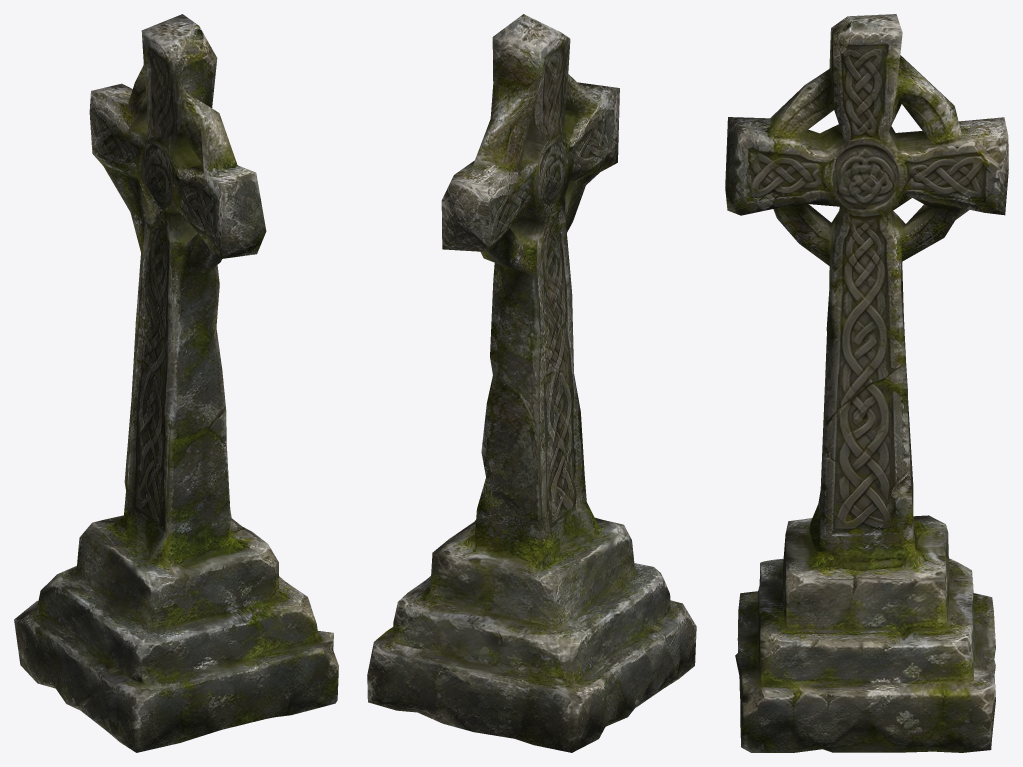
Rendered from cross.glb.
The picture shows the model from 3 angles, left to right: view 1: azimuth 30°, elevation 25°; view 2: azimuth 150°, elevation 25°; view 3: azimuth 270°, elevation 25°; orthographic projection. The views are drawn at different scales.
Parts seen in each view (by area): view 1: tripo_node_35f0b179-8948-48a0-a397-304b38f0d892; view 2: tripo_node_35f0b179-8948-48a0-a397-304b38f0d892; view 3: tripo_node_35f0b179-8948-48a0-a397-304b38f0d892.
Boxes of the visible parts, bbox=[...] form: tripo_node_35f0b179-8948-48a0-a397-304b38f0d892: bbox=[14, 14, 338, 752]; tripo_node_35f0b179-8948-48a0-a397-304b38f0d892: bbox=[367, 14, 696, 752]; tripo_node_35f0b179-8948-48a0-a397-304b38f0d892: bbox=[725, 14, 1008, 752].
Bounding box in the file's own units: 0.3428 × 1 × 0.3745.
Materials: 1 (1 with a texture image).
